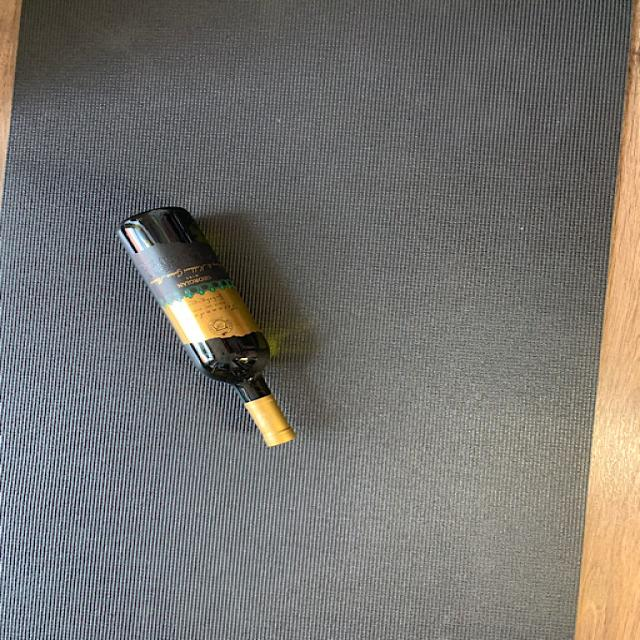Glass Bottle: (112, 206, 298, 450)
